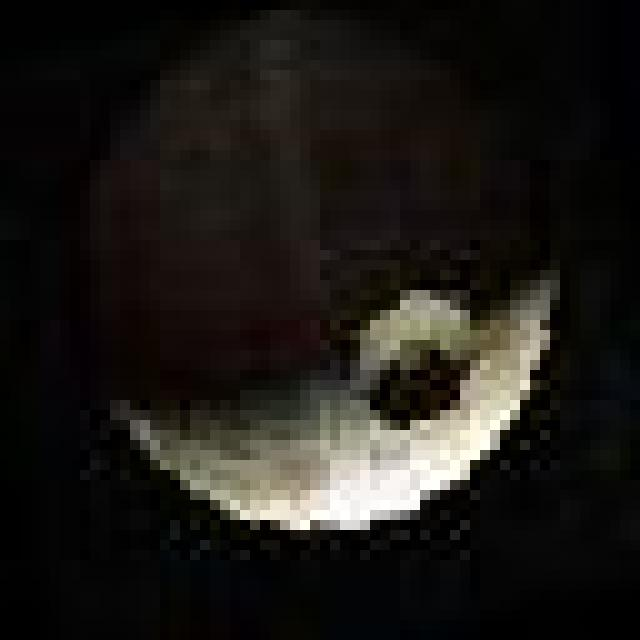Death Star: (80, 20, 564, 537)
